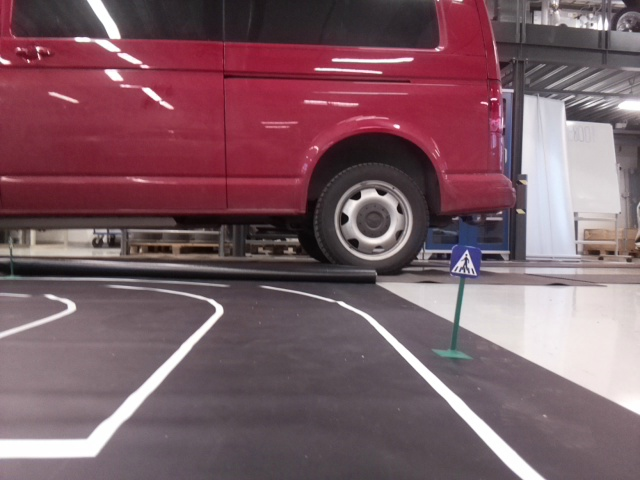Crosswalk: (451, 246, 478, 277)
